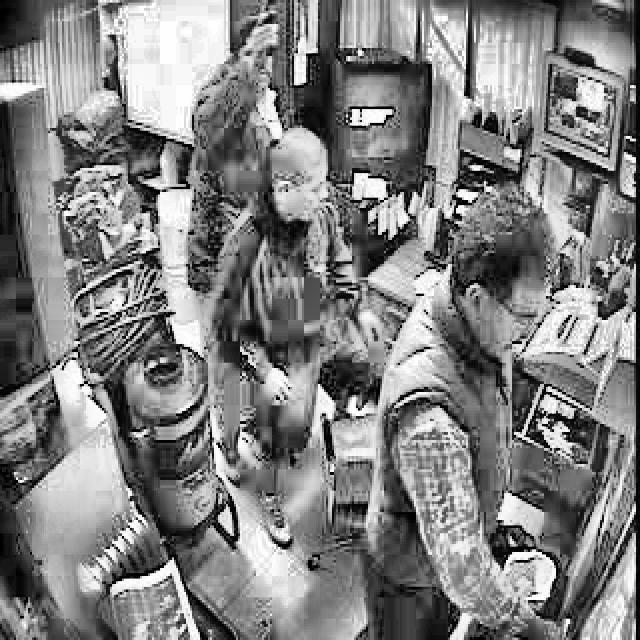robbery: (182, 0, 299, 305)
